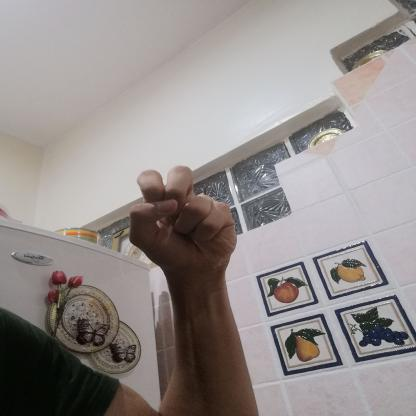QAAF: (114, 158, 260, 286)
